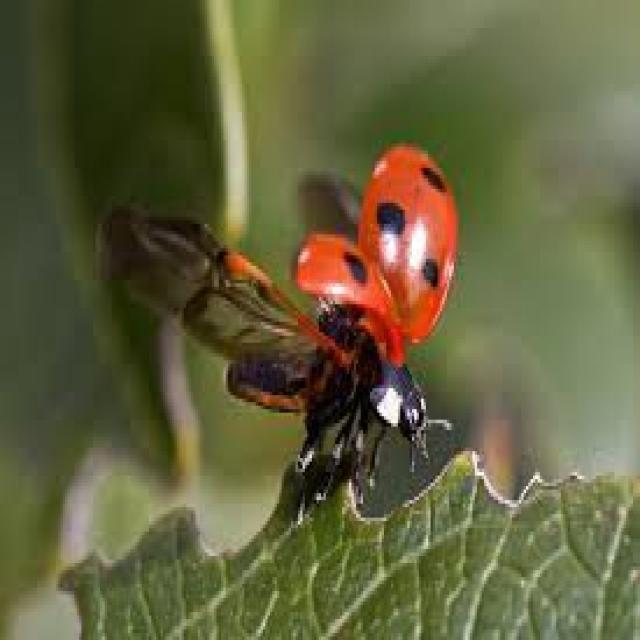ladybug: (102, 143, 456, 514)
